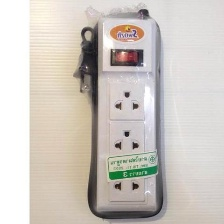three_eye_plug: (91, 10, 163, 217)
